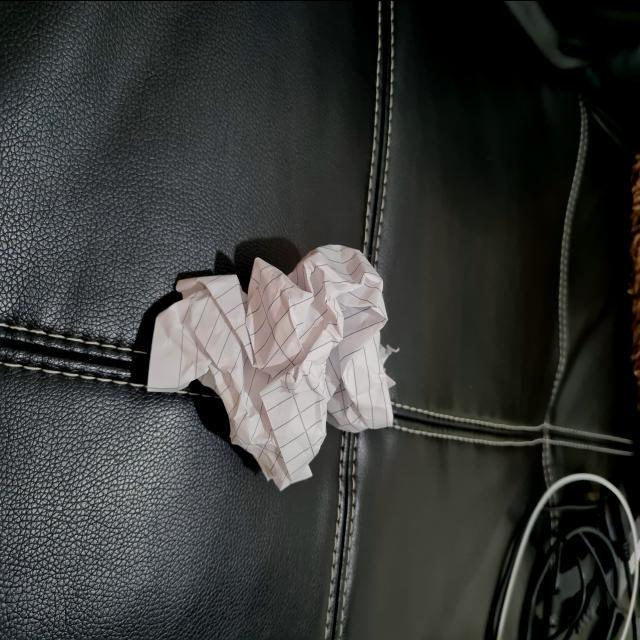Paper: (136, 240, 400, 496)
